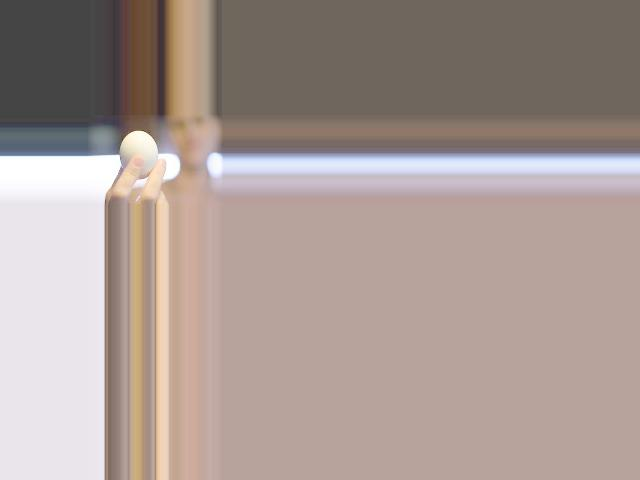egg: (120, 131, 159, 180)
